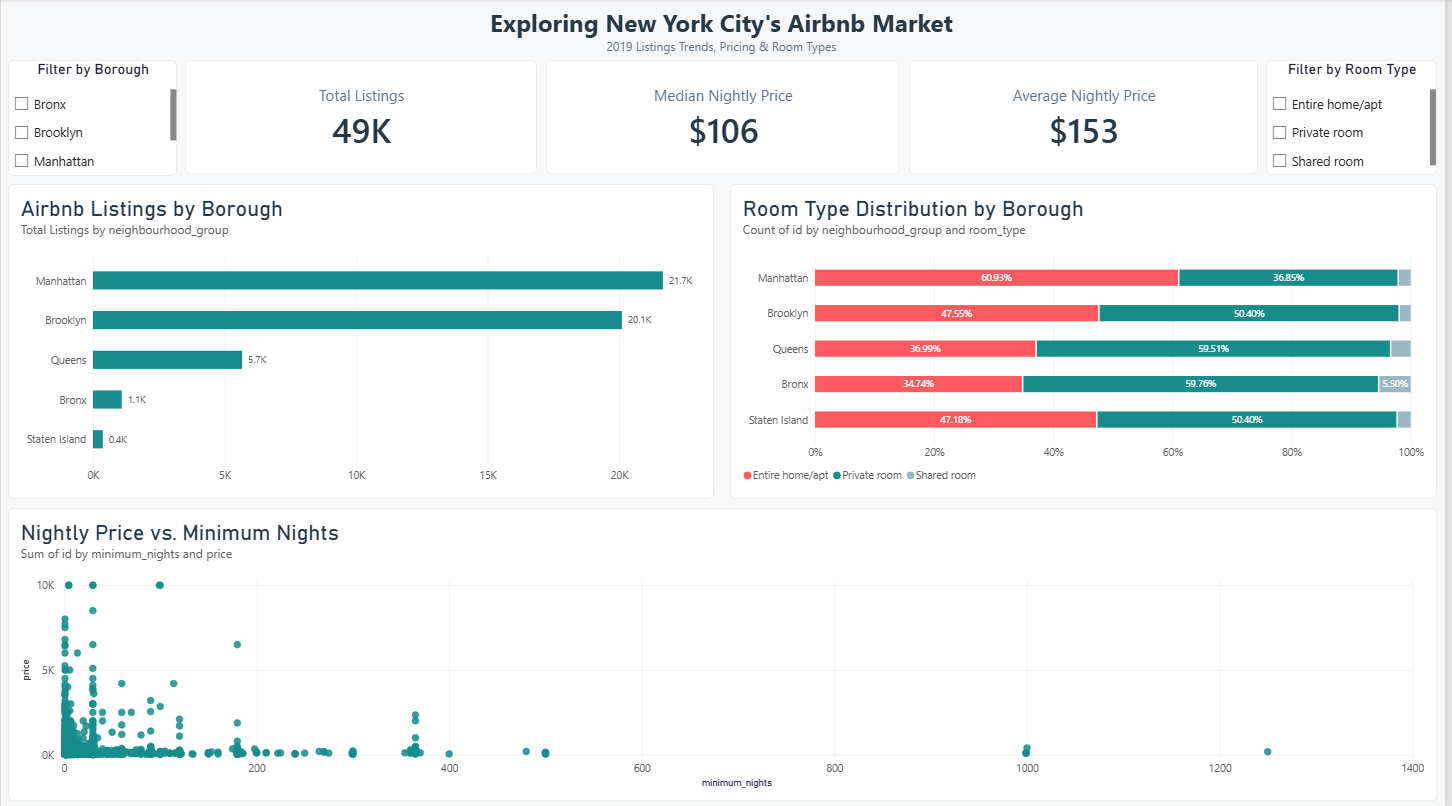

The page's visual inventory and layout, read from the dashboard file:
{"tool":"powerbi","page":{"name":"Market Overview","canvas":[1920,1080],"ordinal":0},"visuals":[{"type":"cardVisual","fields":{"Data":["nyc_airbnb_powerbi.Total Listings"]},"box":[244.7,81.1,468.2,153],"z":0},{"type":"cardVisual","fields":{"Data":["nyc_airbnb_powerbi.Median Nightly Price"]},"box":[724.9,81.1,470.8,153],"z":1000},{"type":"cardVisual","fields":{"Data":["nyc_airbnb_powerbi.Average Nightly Price"]},"box":[1207.7,81.1,464.2,153],"z":2000},{"type":"clusteredBarChart","title":"Airbnb Listings by Borough","fields":{"Category":["nyc_airbnb_powerbi.neighbourhood_group"],"Y":["nyc_airbnb_powerbi.Total Listings"]},"box":[9.3,246.1,939,419],"z":3000},{"type":"hundredPercentStackedBarChart","title":"Room Type Distribution by Borough","fields":{"Category":["nyc_airbnb_powerbi.neighbourhood_group"],"Series":["nyc_airbnb_powerbi.room_type"],"Y":["CountNonNull(nyc_airbnb_powerbi.id)"]},"box":[969.6,246.1,940.3,419],"z":4000},{"type":"scatterChart","title":"Nightly Price vs. Minimum Nights","fields":{"X":["nyc_airbnb_powerbi.minimum_nights"],"Y":["nyc_airbnb_powerbi.price"]},"box":[9.3,677,1900.6,389.7],"z":5000},{"type":"slicer","title":"Filter by Borough","fields":{"Values":["nyc_airbnb_powerbi.neighbourhood_group"]},"box":[9.3,81.1,224.8,154.3],"z":7000},{"type":"slicer","title":"Filter by Room Type","fields":{"Values":["nyc_airbnb_powerbi.room_type"]},"box":[1682.5,81.1,227.4,153],"z":8000},{"type":"textbox","box":[244.7,9.3,1427.1,71.8],"z":8001}]}

Visuals, with their boxes in screenshot pixels (x1, y1, x2, y2), scaled from the page's 1920x1080 canvas onto the 1452x806 screenshot:
cardVisual - nyc_airbnb_powerbi.Total Listings: bbox=(185, 61, 539, 175)
cardVisual - nyc_airbnb_powerbi.Median Nightly Price: bbox=(548, 61, 904, 175)
cardVisual - nyc_airbnb_powerbi.Average Nightly Price: bbox=(913, 61, 1264, 175)
"Airbnb Listings by Borough" clusteredBarChart: bbox=(7, 184, 717, 496)
"Room Type Distribution by Borough" hundredPercentStackedBarChart: bbox=(733, 184, 1444, 496)
"Nightly Price vs. Minimum Nights" scatterChart: bbox=(7, 505, 1444, 796)
"Filter by Borough" slicer: bbox=(7, 61, 177, 176)
"Filter by Room Type" slicer: bbox=(1272, 61, 1444, 175)
textbox: bbox=(185, 7, 1264, 61)
